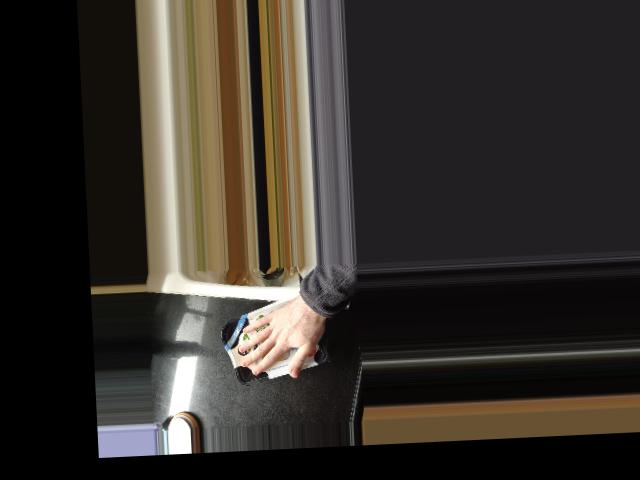cheese: (217, 288, 331, 388)
